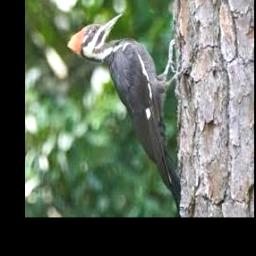Woodpecker: (66, 14, 183, 215)
